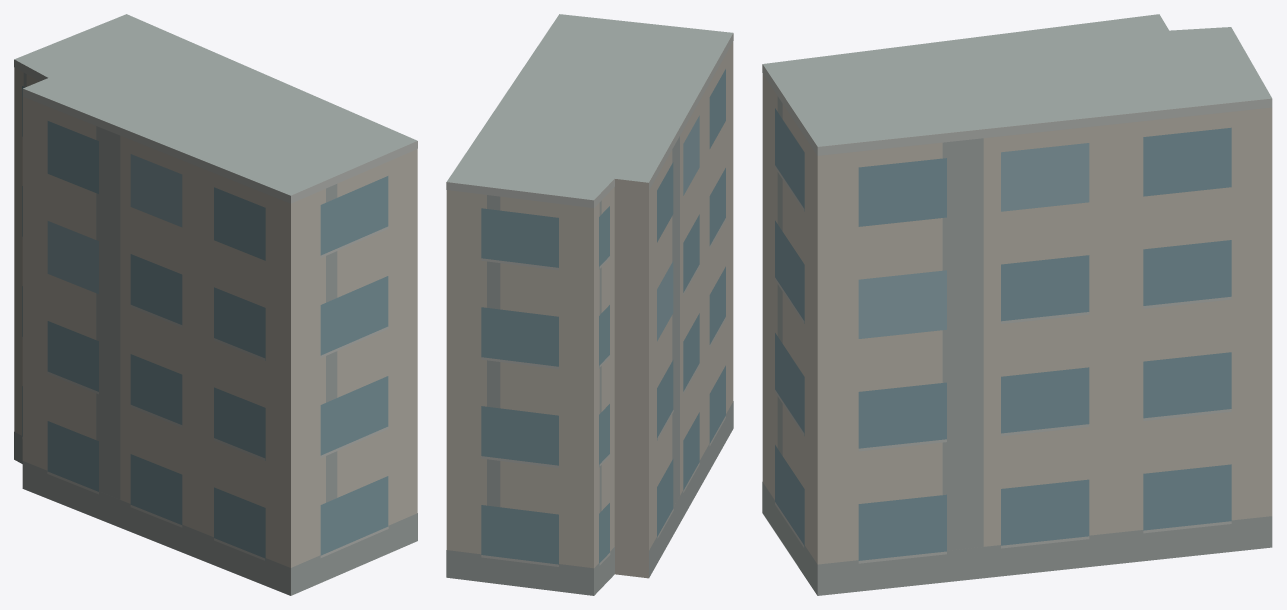
Rendered from residential-49a44186-544f-475e-b637-f25118a220de.glb.
3 renders of one model, left to right at view 1: azimuth 30°, elevation 25°; view 2: azimuth 150°, elevation 25°; view 3: azimuth 270°, elevation 25°, orthographic. The views are drawn at different scales.
Visible parts, largest first — view 1: residential-49a44186-544f-475e-b637-f25118a220de.tmp; view 2: residential-49a44186-544f-475e-b637-f25118a220de.tmp; view 3: residential-49a44186-544f-475e-b637-f25118a220de.tmp.
Boxes of the visible parts, x1=… form: residential-49a44186-544f-475e-b637-f25118a220de.tmp: x1=14, y1=14, x2=417, y2=595; residential-49a44186-544f-475e-b637-f25118a220de.tmp: x1=446, y1=14, x2=733, y2=595; residential-49a44186-544f-475e-b637-f25118a220de.tmp: x1=762, y1=14, x2=1272, y2=595.
Size of the model in its own units: 7.76 by 12.2 by 12.57.
